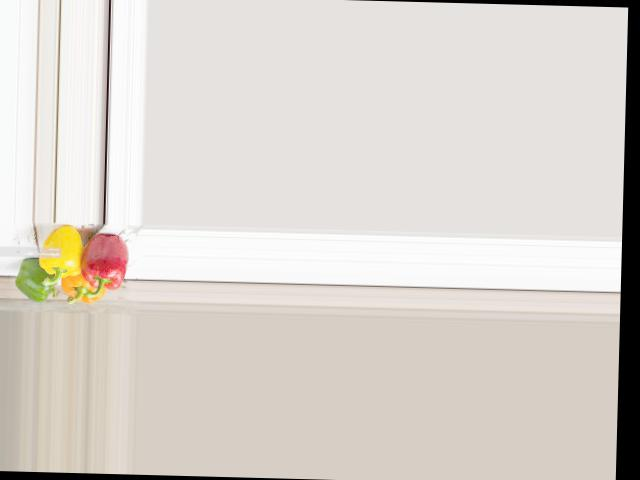bell_pepper: (58, 271, 106, 305)
